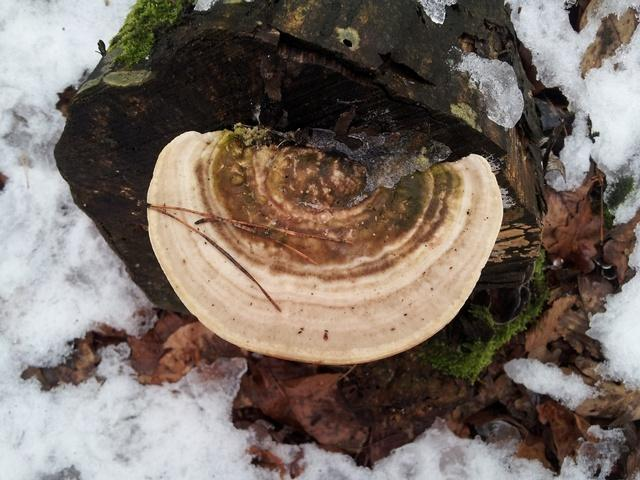poisonous_mushroom: (144, 123, 504, 365)
